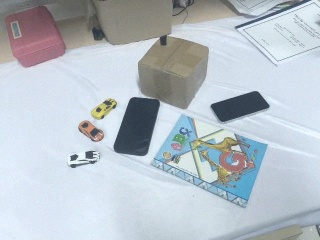book: (148, 110, 272, 211)
box: (138, 34, 209, 110), (4, 3, 68, 71), (88, 1, 173, 46)
phone: (113, 96, 161, 157), (211, 90, 271, 123)
toy_car: (76, 98, 121, 144), (78, 119, 105, 142), (67, 150, 100, 168), (91, 98, 117, 120)
